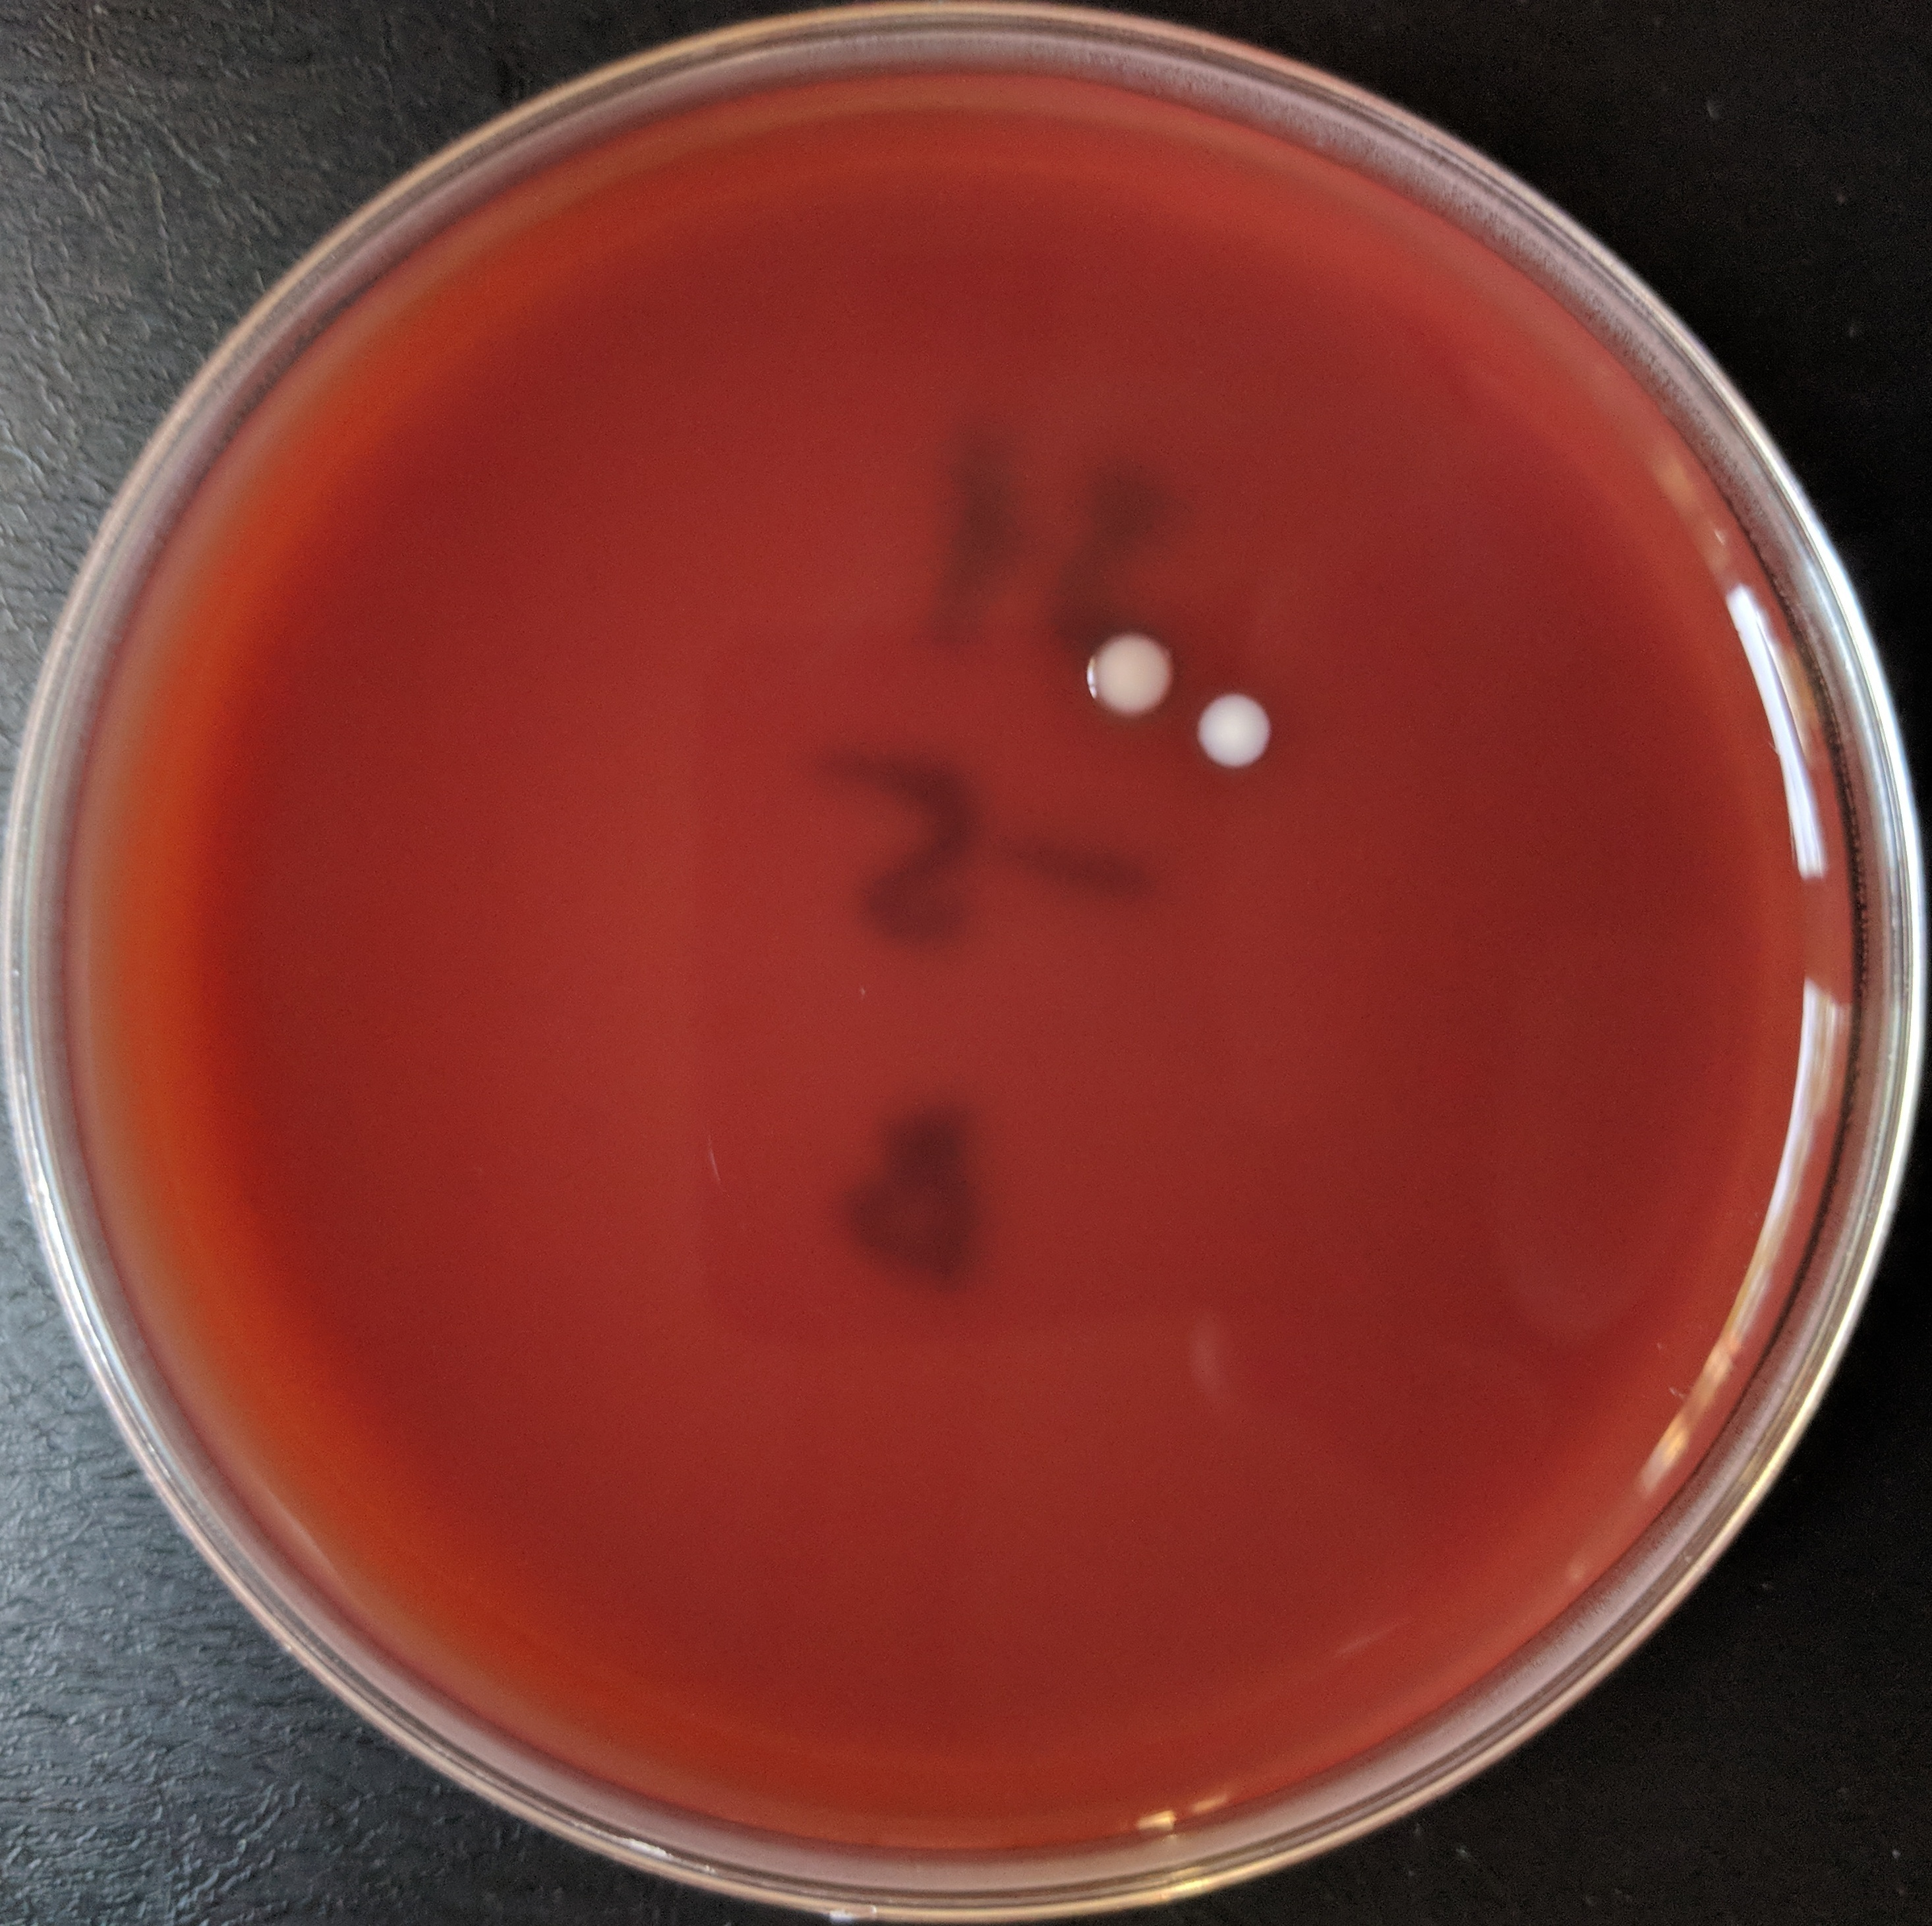sp03: (1053, 614, 1184, 723), (1180, 686, 1292, 808)
